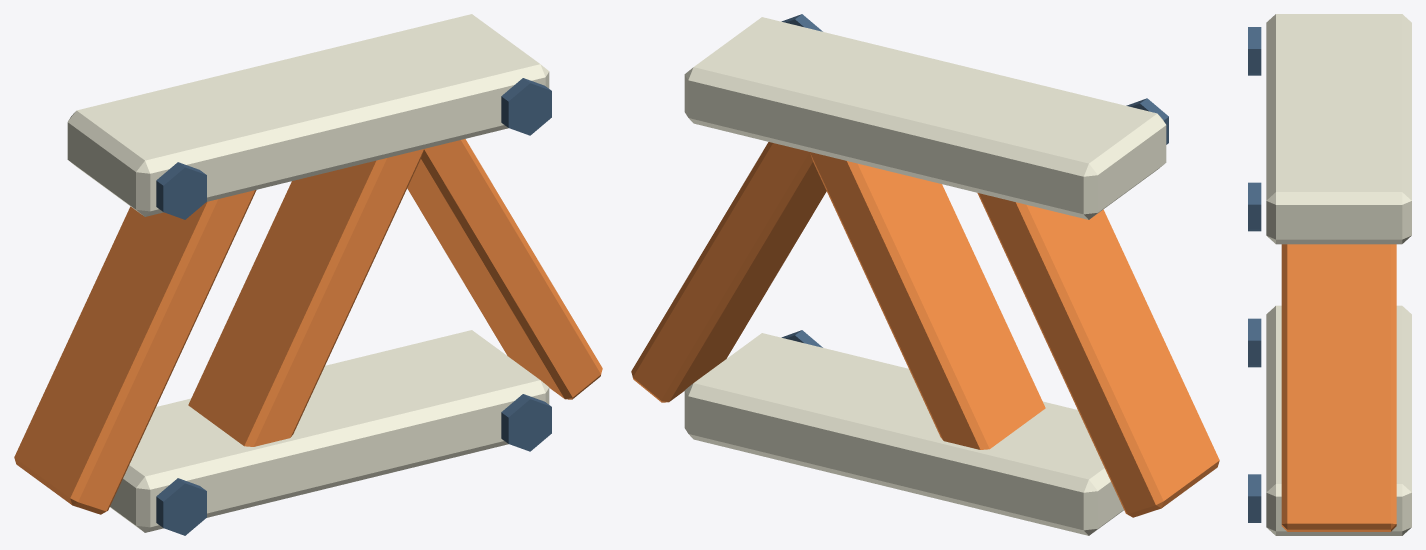
The model's file is beam.glb.
3 renders of one model, left to right at view 1: azimuth 30°, elevation 25°; view 2: azimuth 150°, elevation 25°; view 3: azimuth 270°, elevation 25°, orthographic. The views are drawn at different scales.
Parts seen in each view (by area): view 1: Structural rail.001, Structural rail, Cross brace, Cross brace.001, Cross brace.002, Rivet.013, Rivet.014, Rivet.015, Rivet.012; view 2: Structural rail.001, Structural rail, Cross brace, Cross brace.001, Cross brace.002; view 3: Structural rail.001, Cross brace.002, Structural rail, Rivet.012, Rivet.015, Rivet.013, Rivet.014.
Boxes of the visible parts, <box> form: Structural rail.001: <box>67,14,549,216</box>; Structural rail: <box>110,330,549,532</box>; Cross brace: <box>14,190,256,514</box>; Cross brace.001: <box>188,149,423,446</box>; Cross brace.002: <box>407,139,602,399</box>; Rivet.013: <box>156,162,206,219</box>; Rivet.014: <box>501,394,551,451</box>; Rivet.015: <box>501,78,551,135</box>; Rivet.012: <box>156,478,206,535</box>; Structural rail.001: <box>684,17,1166,219</box>; Structural rail: <box>684,333,1123,535</box>; Cross brace: <box>977,193,1219,517</box>; Cross brace.001: <box>810,152,1045,449</box>; Cross brace.002: <box>631,142,826,402</box>; Structural rail.001: <box>1266,14,1411,244</box>; Cross brace.002: <box>1281,244,1396,531</box>; Structural rail: <box>1266,305,1411,535</box>; Rivet.012: <box>1248,318,1261,367</box>; Rivet.015: <box>1248,182,1261,231</box>; Rivet.013: <box>1248,27,1261,75</box>; Rivet.014: <box>1248,474,1261,522</box>.
Bounding box in the file's own units: 1.48 × 0.99 × 0.4275.
